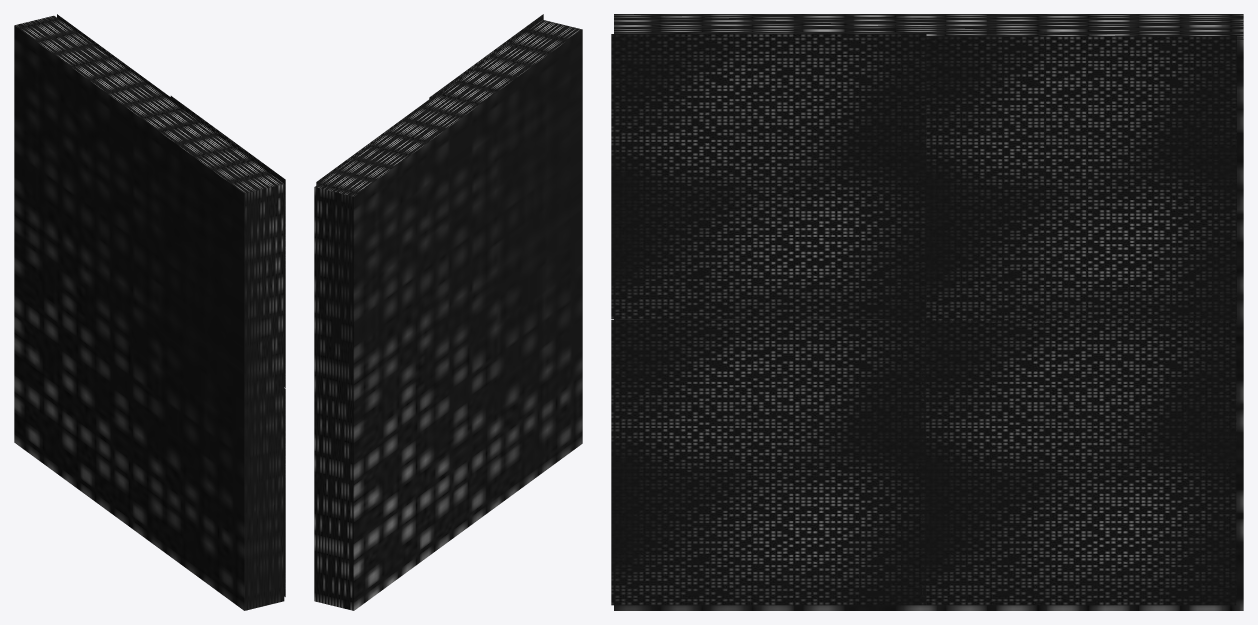
Rendered from BlockPortalBox.fbx.
3 renders of one model, left to right at view 1: azimuth 30°, elevation 25°; view 2: azimuth 150°, elevation 25°; view 3: azimuth 270°, elevation 25°, orthographic. The views are drawn at different scales.
Visible parts, largest first — view 1: 立方体; view 2: 立方体; view 3: 立方体.
Part boxes in pixels (x1,y1,x2,y2): 立方体: (14,14,285,610); 立方体: (314,14,582,610); 立方体: (611,14,1243,610).
Bounding box in the file's own units: 20.21 × 202 × 201.
Materials: 5 (5 with a texture image).
